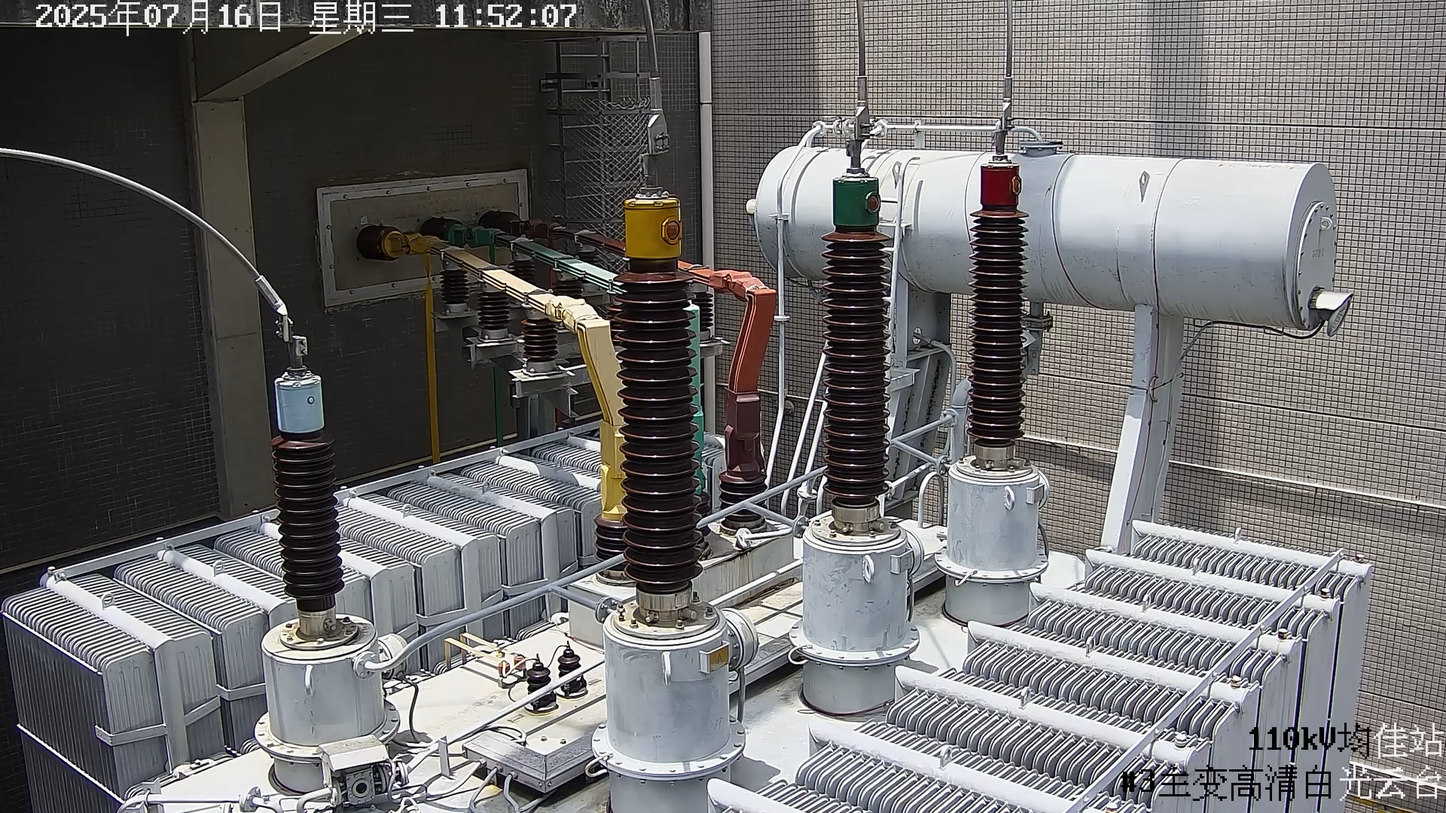MainTR: (0, 74, 1373, 812)
